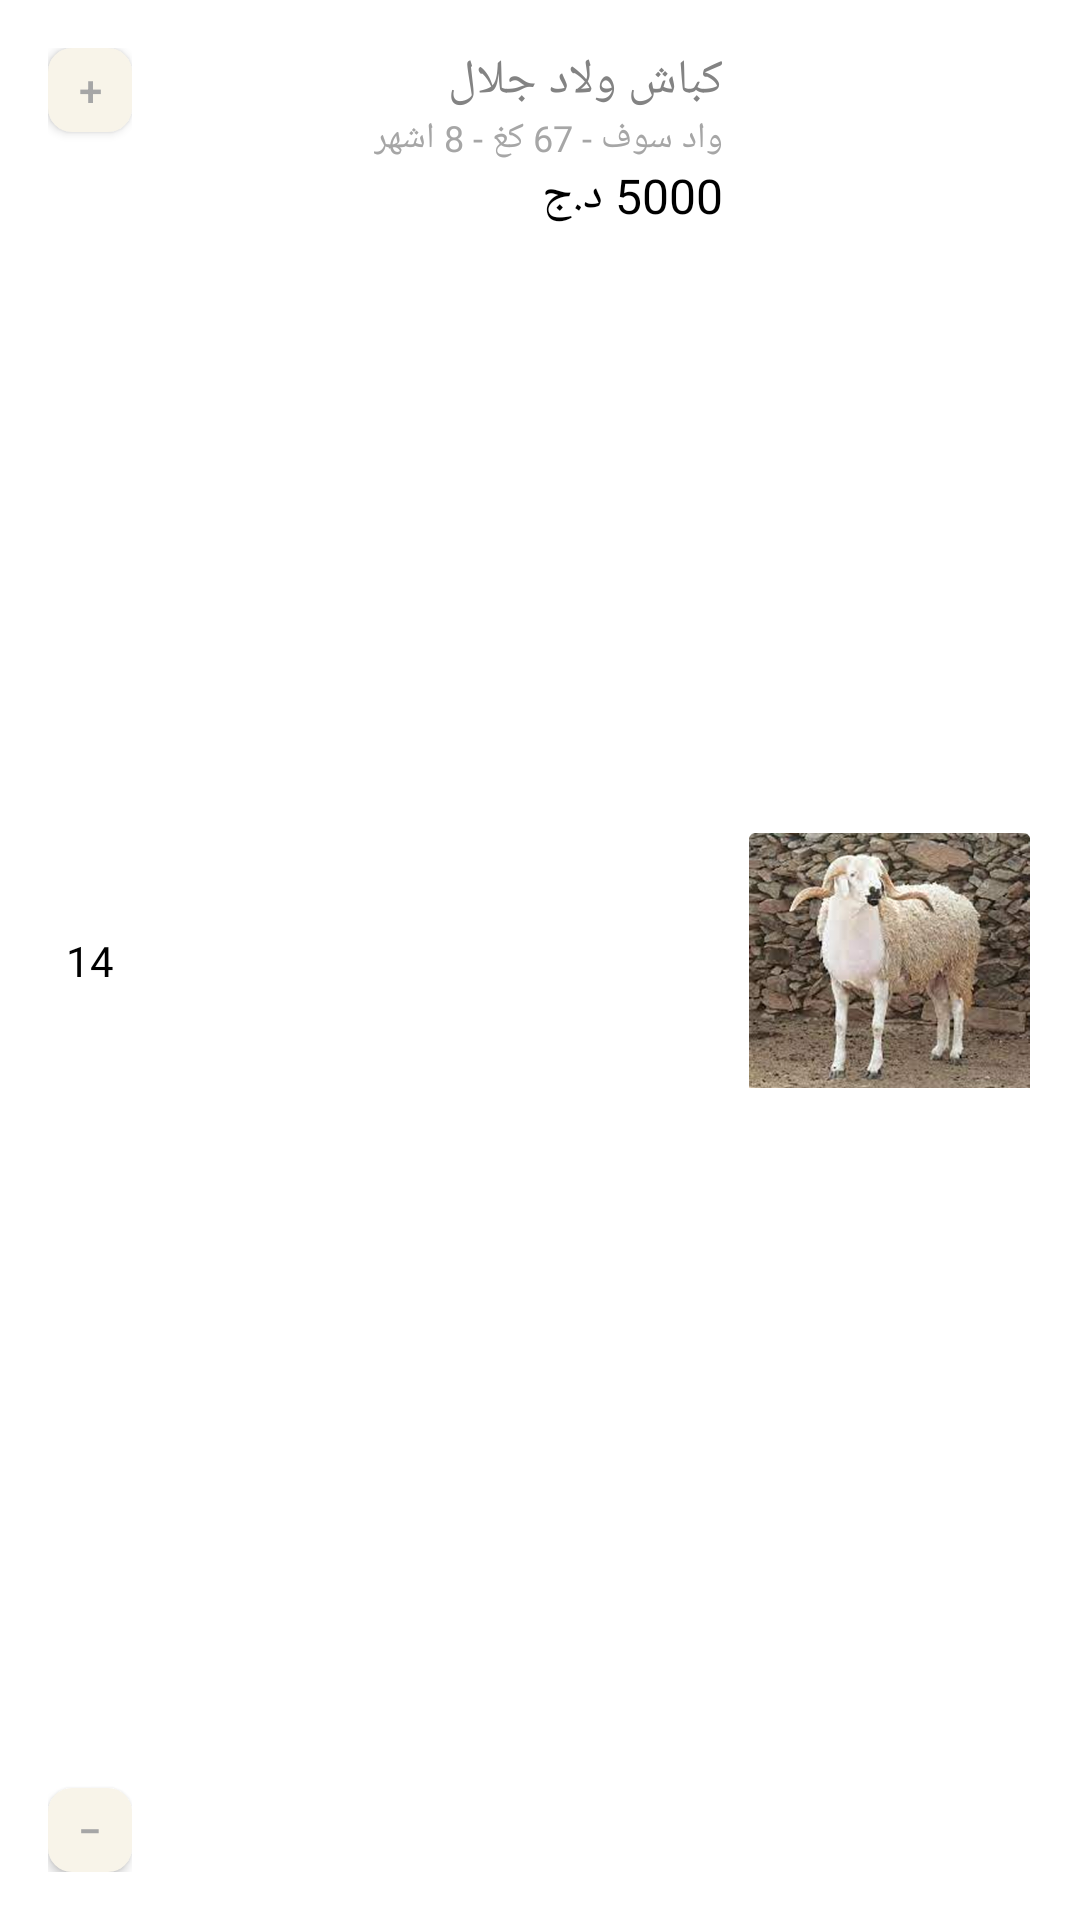

Where icons sit on this 1080 x 1920 app screen, as Rect(x1, y1, x2, y2):
sheep: Rect(749, 833, 1030, 1088)
